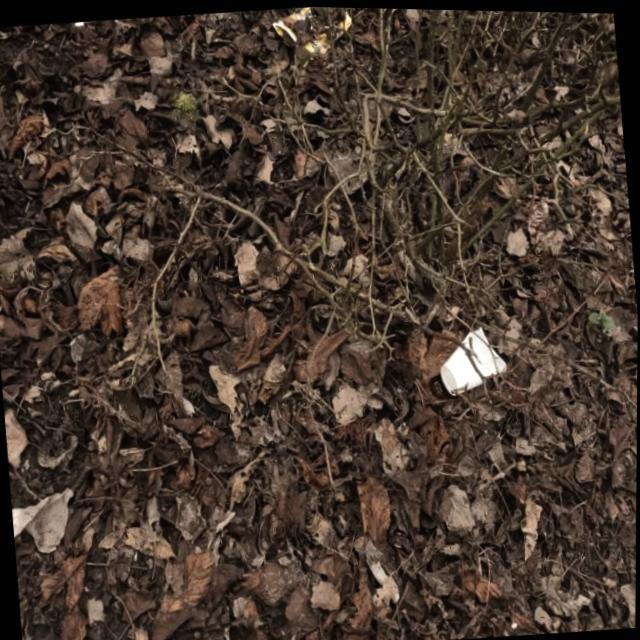Cup: (438, 318, 511, 399)
